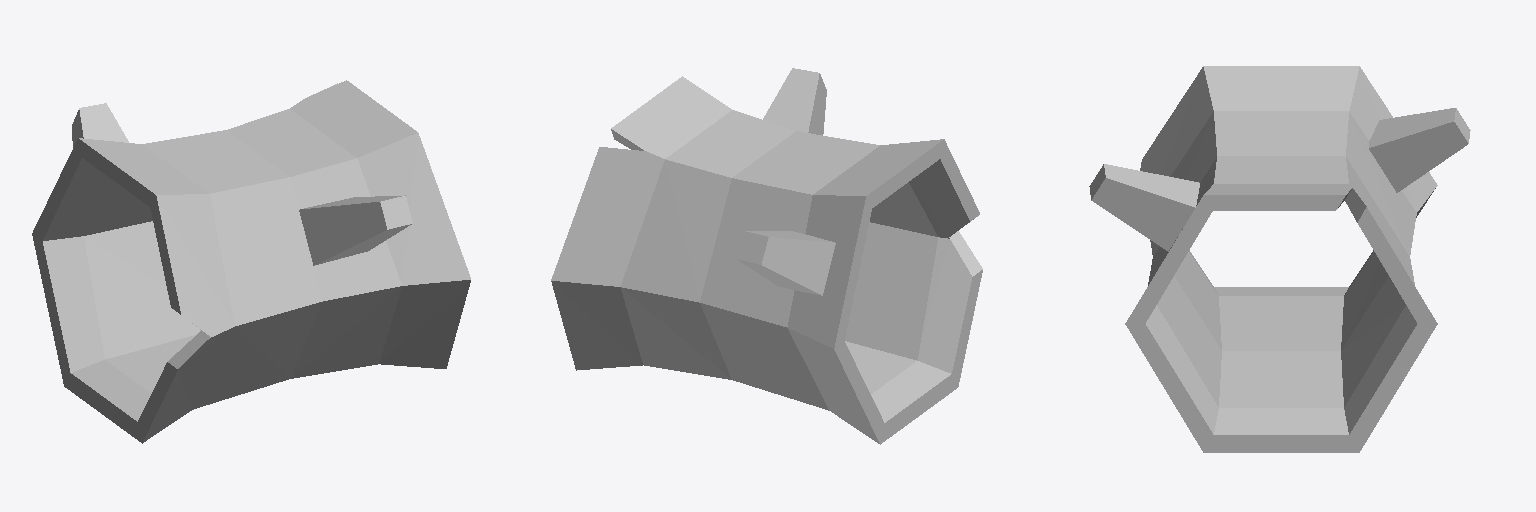
File: Prop_Hollow_Trunk.obj
3 renders of one model, left to right at view 1: azimuth 30°, elevation 25°; view 2: azimuth 150°, elevation 25°; view 3: azimuth 270°, elevation 25°, orthographic.
Visible parts, largest first — view 1: object3, object1, object2; view 2: object3, object2, object1; view 3: object3, object1, object2.
Part boxes in pixels (left/top/right/bottom): object3: left=32, top=80, right=470, bottom=443; object1: left=299, top=195, right=412, bottom=265; object2: left=72, top=103, right=128, bottom=147; object3: left=551, top=76, right=982, bottom=444; object2: left=736, top=231, right=835, bottom=295; object1: left=763, top=68, right=826, bottom=135; object3: left=1125, top=66, right=1437, bottom=452; object1: left=1089, top=164, right=1199, bottom=251; object2: left=1369, top=108, right=1470, bottom=192.
Size of the model in its own units: 0.9199 by 0.7081 by 0.9982.